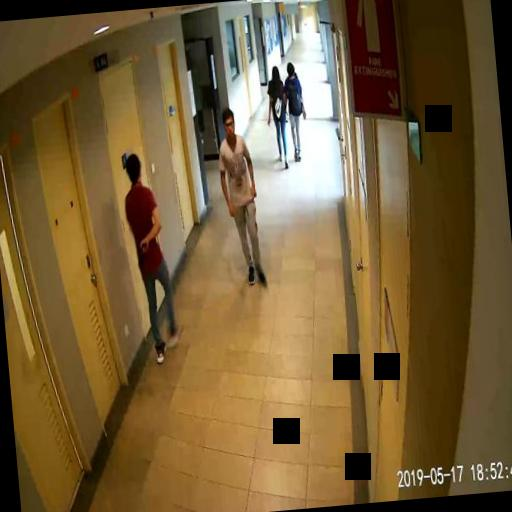Handgun: (134, 238, 147, 266)
